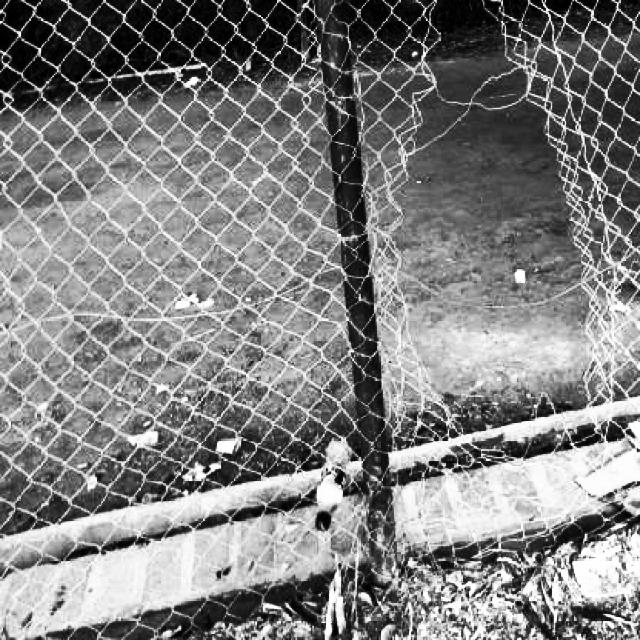anomaly-fence: (350, 0, 640, 550)
